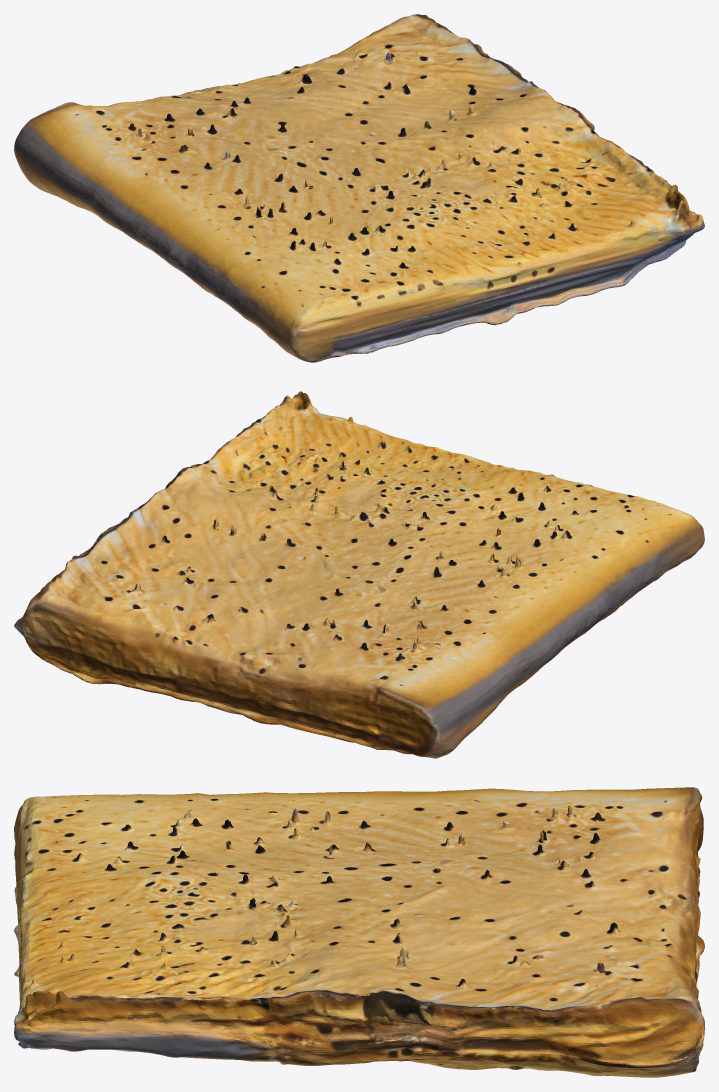
The model's file is image_0002_segmented.glb.
3 views of the same model, one above another, from view 1: azimuth 30°, elevation 25°; view 2: azimuth 150°, elevation 25°; view 3: azimuth 270°, elevation 25° (orthographic). The views are drawn at different scales.
Parts seen in each view (by area): view 1: tmpvx6wf2eg.ply; view 2: tmpvx6wf2eg.ply; view 3: tmpvx6wf2eg.ply.
Boxes of the visible parts, x1,y1,x2,y2 form: tmpvx6wf2eg.ply: (14,14,704,362); tmpvx6wf2eg.ply: (14,391,704,758); tmpvx6wf2eg.ply: (14,787,704,1077).
Size of the model in its own units: 1.79 by 0.3417 by 1.99.
1 material, 1 textured.
